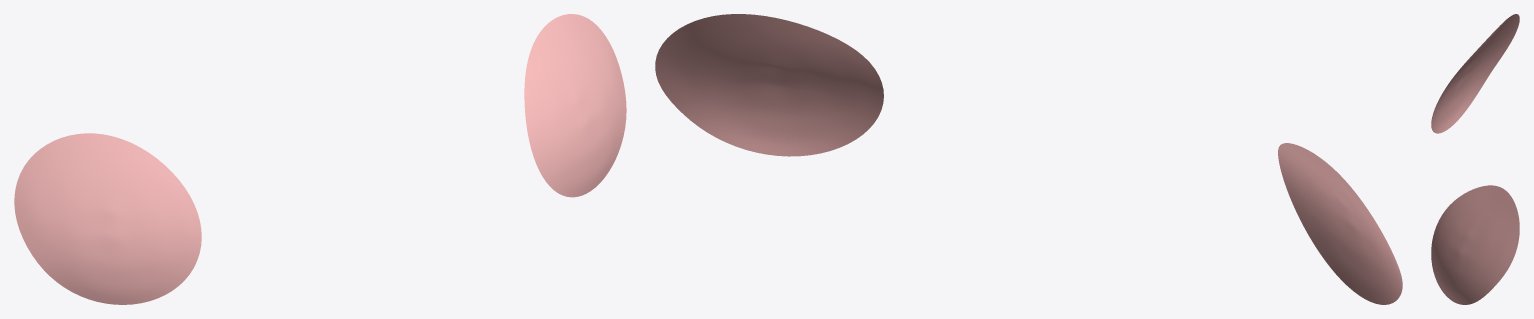
File: Blush.gltf
3 views of the same model, side by side, from view 1: azimuth 30°, elevation 25°; view 2: azimuth 150°, elevation 25°; view 3: azimuth 270°, elevation 25° (orthographic). The views are drawn at different scales.
Parts seen in each view (by area): view 1: 身体1-腮红; view 2: 身体1-腮红; view 3: 身体1-腮红.
Boxes of the visible parts, <box> form: 身体1-腮红: <box>14,14,626,304</box>; 身体1-腮红: <box>655,14,1402,304</box>; 身体1-腮红: <box>1431,14,1519,304</box>.
Bounding box in the file's own units: 6.28 × 1.43 × 1.06.
